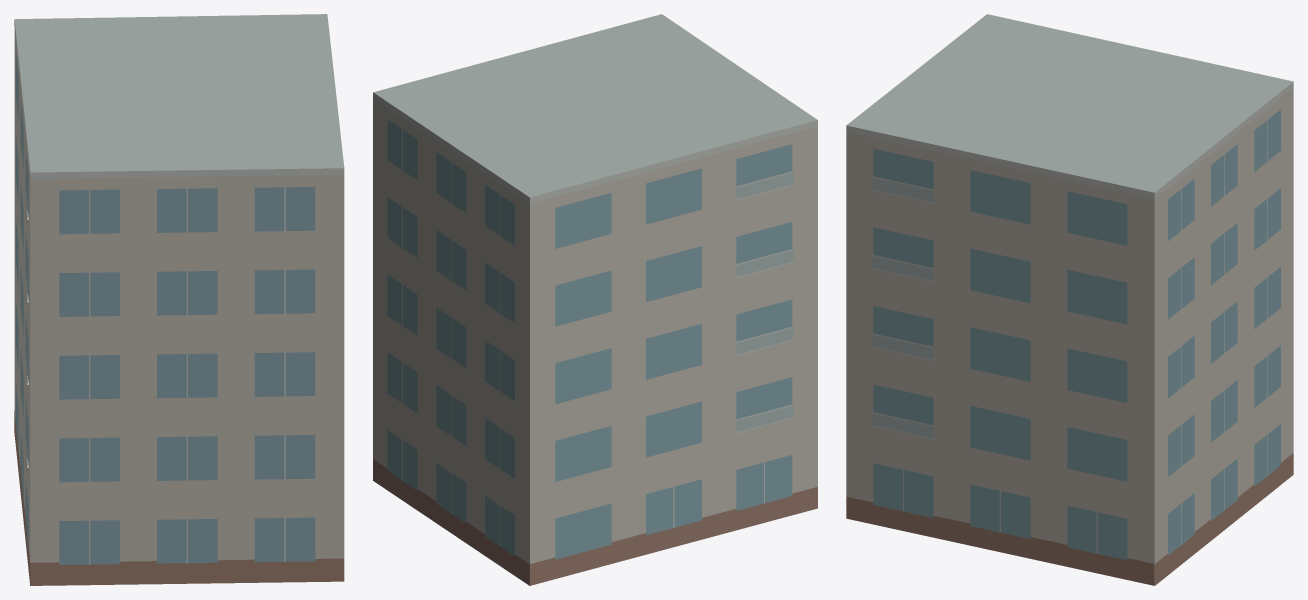
Rendered from survey-upis-32659895.glb.
3 renders of one model, left to right at view 1: azimuth 30°, elevation 25°; view 2: azimuth 150°, elevation 25°; view 3: azimuth 270°, elevation 25°, orthographic. The views are drawn at different scales.
Parts seen in each view (by area): view 1: survey-upis-32659895.tmp; view 2: survey-upis-32659895.tmp; view 3: survey-upis-32659895.tmp.
Part boxes in pixels (box(x1,y1,x2,y2)): survey-upis-32659895.tmp: box(14, 14, 344, 585); survey-upis-32659895.tmp: box(373, 14, 817, 585); survey-upis-32659895.tmp: box(846, 14, 1293, 585).
Size of the model in its own units: 14.88 by 15.25 by 15.74.
